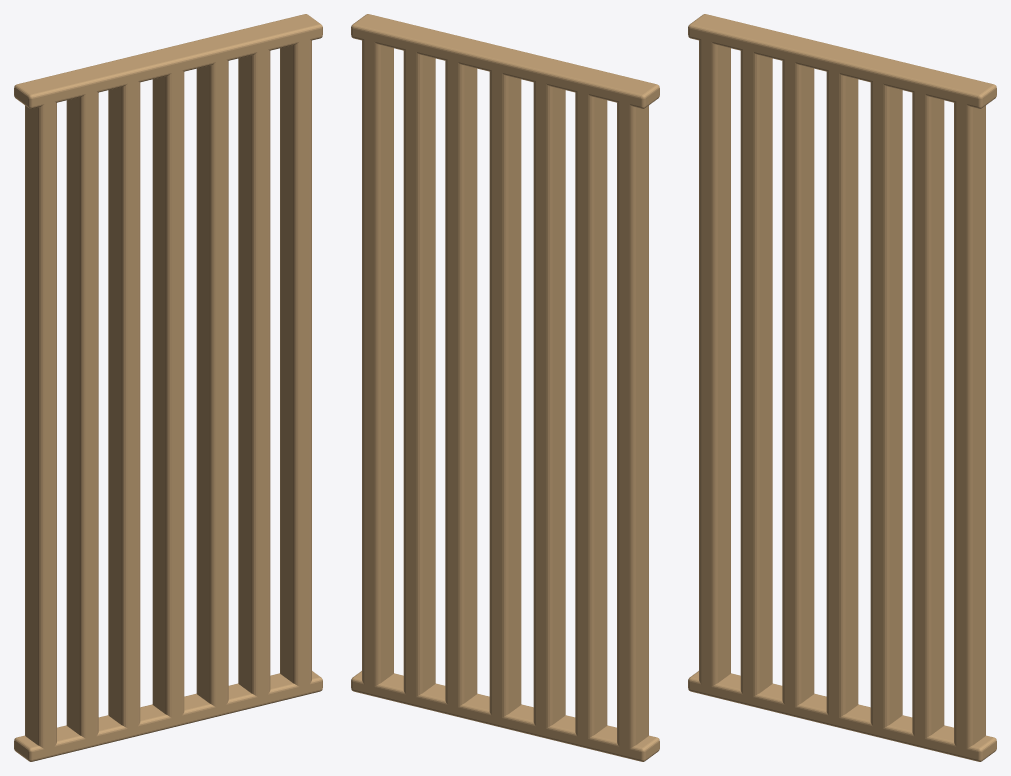
The model's file is slat-partition.glb.
3 renders of one model, left to right at view 1: azimuth 30°, elevation 25°; view 2: azimuth 150°, elevation 25°; view 3: azimuth 330°, elevation 25°, orthographic.
Visible parts, largest first — view 1: CANONICAL slat 3, CANONICAL slat 6, CANONICAL slat 5, CANONICAL slat 2, CANONICAL slat 4, CANONICAL slat 1, CANONICAL slat 7, CANONICAL ceiling rail, CANONICAL floor rail; view 2: CANONICAL slat 2, CANONICAL slat 3, CANONICAL slat 4, CANONICAL slat 6, CANONICAL slat 5, CANONICAL slat 1, CANONICAL slat 7, CANONICAL ceiling rail, CANONICAL floor rail; view 3: CANONICAL slat 2, CANONICAL slat 5, CANONICAL slat 6, CANONICAL slat 4, CANONICAL slat 3, CANONICAL slat 7, CANONICAL slat 1, CANONICAL ceiling rail, CANONICAL floor rail.
Boxes of the visible parts, x1,y1,x2,y2 form: CANONICAL slat 3: (108, 74, 140, 735); CANONICAL slat 6: (238, 42, 270, 703); CANONICAL slat 5: (196, 53, 228, 713); CANONICAL slat 2: (66, 84, 98, 745); CANONICAL slat 4: (152, 63, 184, 724); CANONICAL slat 1: (25, 94, 56, 755); CANONICAL slat 7: (280, 32, 311, 693); CANONICAL ceiling rail: (14, 14, 322, 108); CANONICAL floor rail: (14, 671, 322, 761); CANONICAL slat 2: (575, 84, 607, 745); CANONICAL slat 3: (533, 75, 565, 735); CANONICAL slat 4: (489, 63, 521, 724); CANONICAL slat 6: (403, 43, 435, 703); CANONICAL slat 5: (445, 53, 477, 713); CANONICAL slat 1: (617, 94, 648, 755); CANONICAL slat 7: (362, 32, 393, 693); CANONICAL ceiling rail: (351, 14, 659, 108); CANONICAL floor rail: (351, 671, 659, 761); CANONICAL slat 2: (740, 42, 772, 703); CANONICAL slat 5: (870, 75, 902, 735); CANONICAL slat 6: (912, 84, 944, 745); CANONICAL slat 4: (826, 63, 858, 724); CANONICAL slat 3: (782, 53, 814, 713); CANONICAL slat 7: (954, 94, 985, 755); CANONICAL slat 1: (699, 32, 730, 693); CANONICAL ceiling rail: (688, 14, 996, 108); CANONICAL floor rail: (688, 671, 996, 761).
Size of the model in its own units: 1.2 by 2.6 by 0.12.
